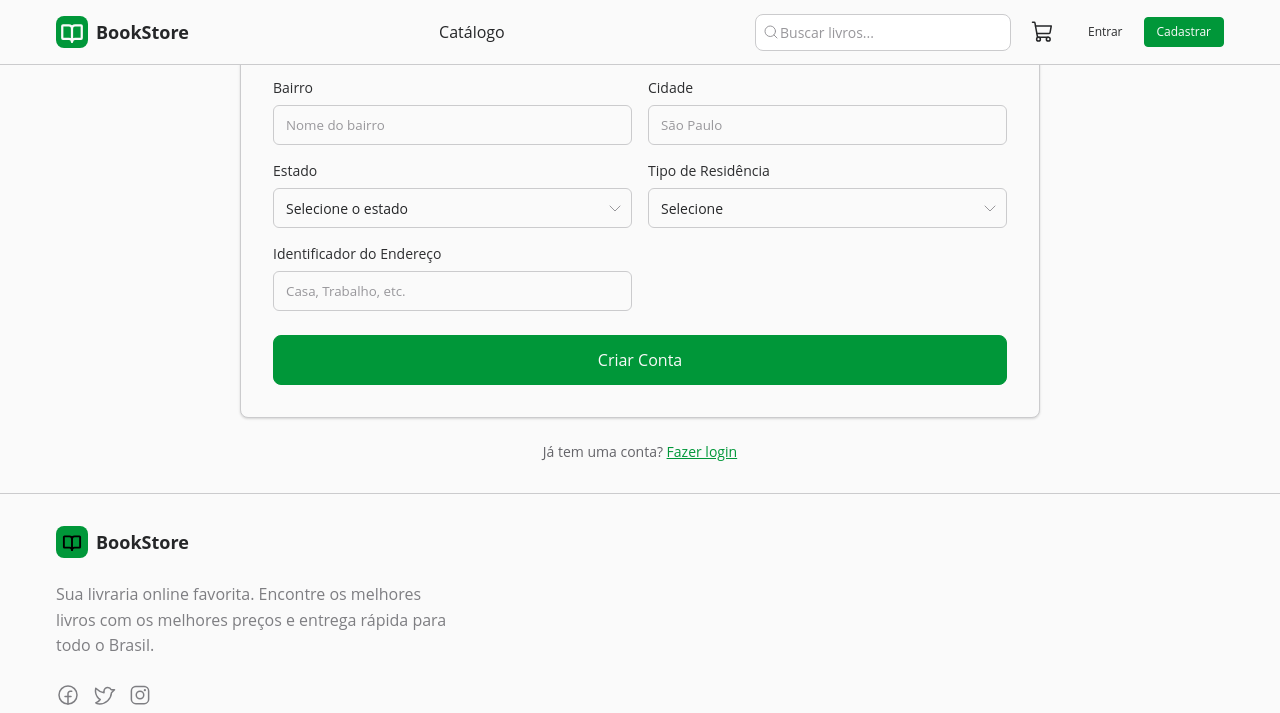
Test: Sign Up Form › Form Validation - Required Fields › should show validation errors for empty required fields
(page scrolled)
Click the button with test id "submit-button" at {"x": 640, "y": 360}, box [273, 335, 1007, 385]
(page scrolled)
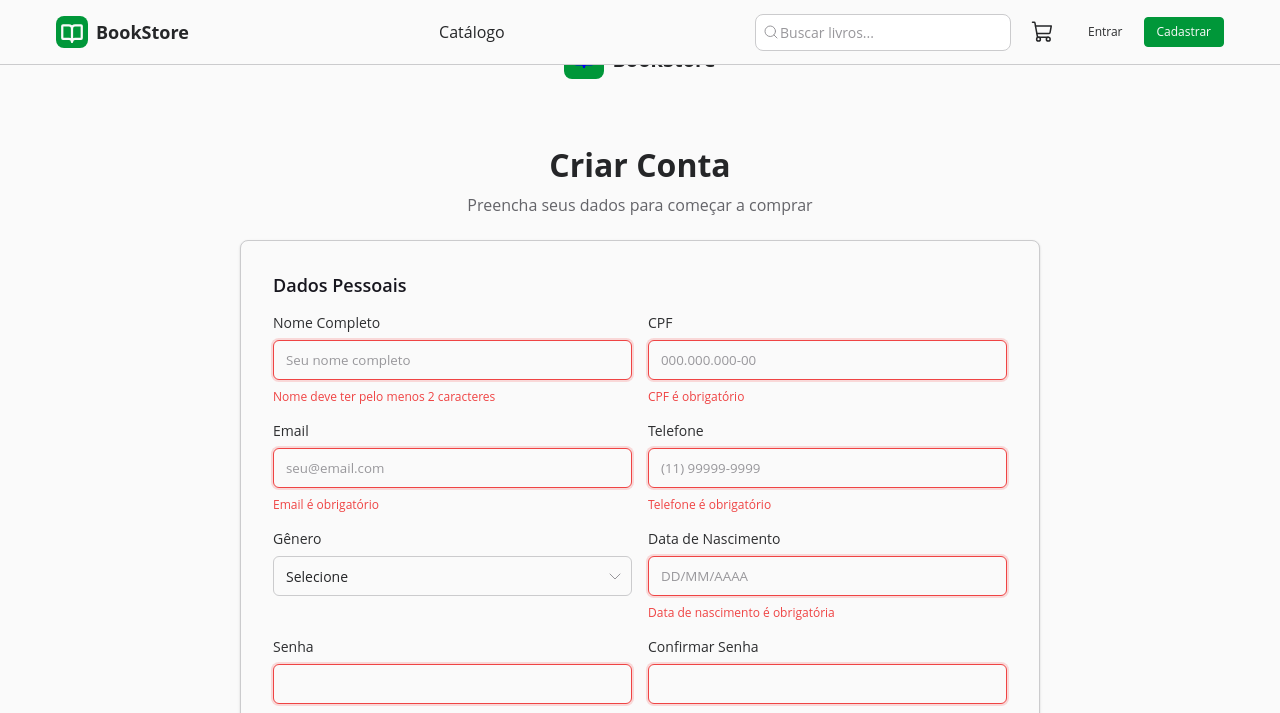
Expected: the text "Nome deve ter pelo menos 2 caracteres" is shown, [273, 388, 495, 405]
Expected: the text "Email é obrigatório" is shown, [273, 496, 379, 513]
Expected: the text "CPF é obrigatório" is shown, [648, 388, 744, 405]
